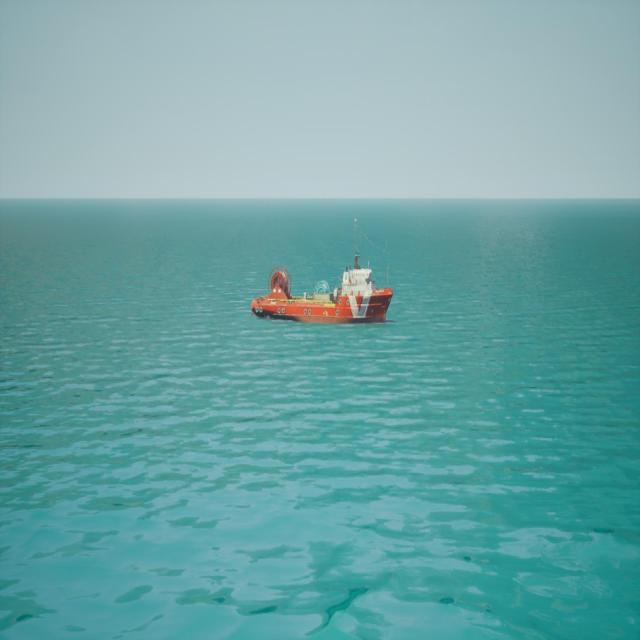tug boat: (253, 220, 397, 326)
